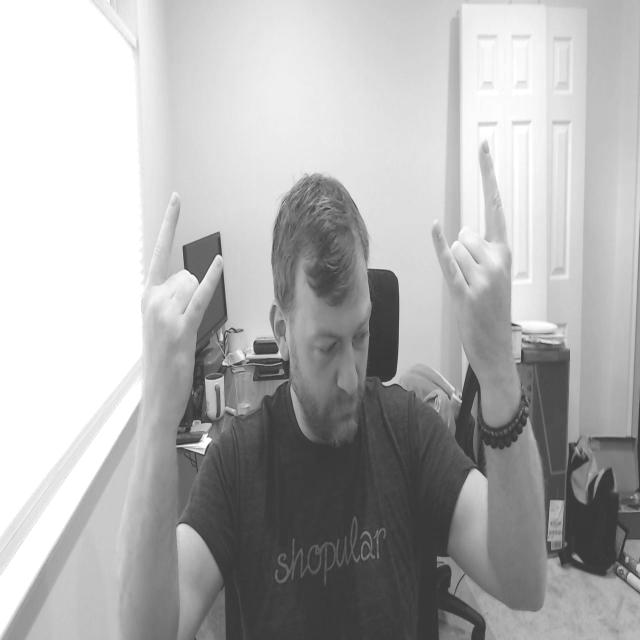real: (270, 247, 372, 447)
